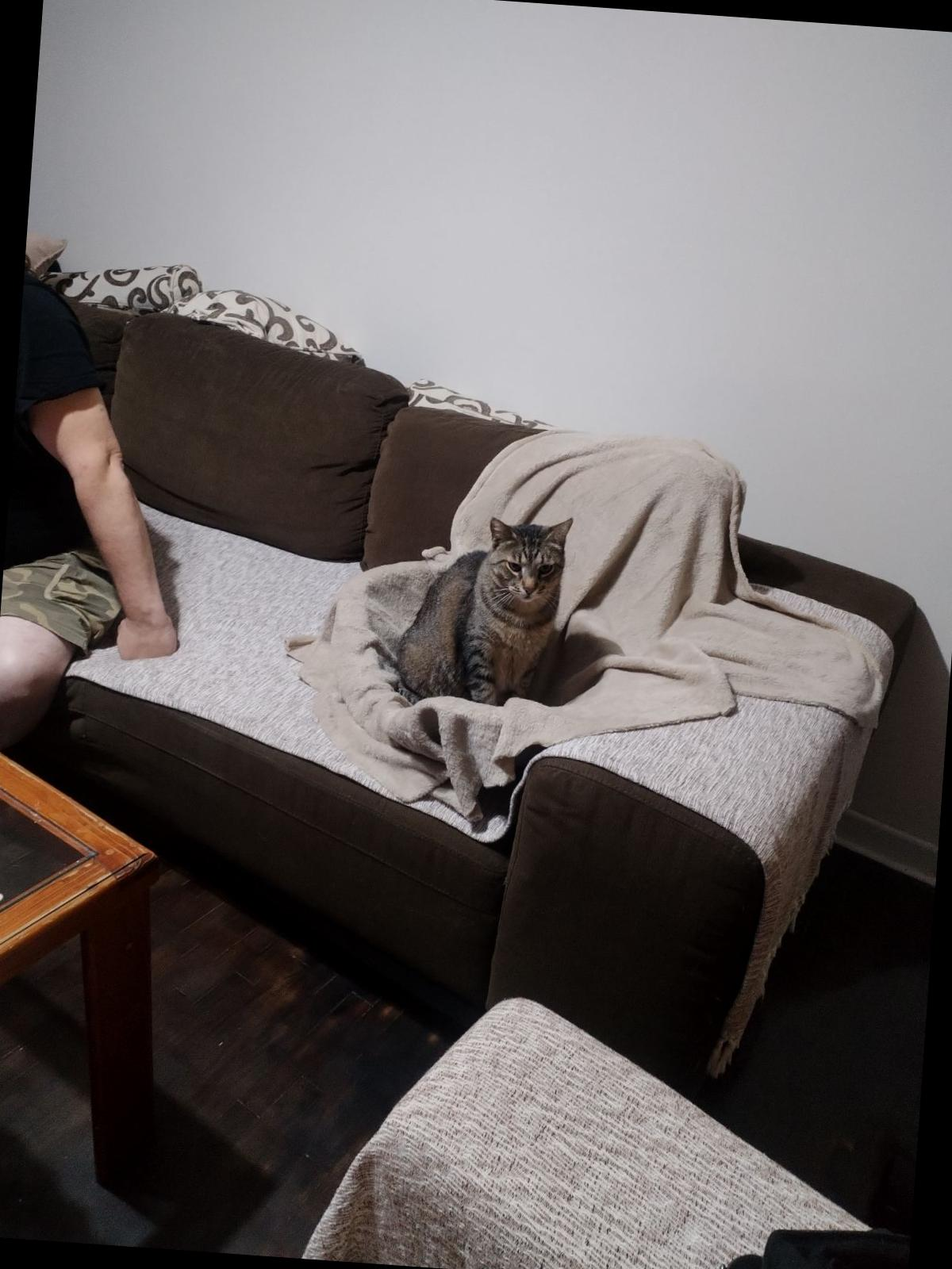macka: (392, 504, 576, 716)
